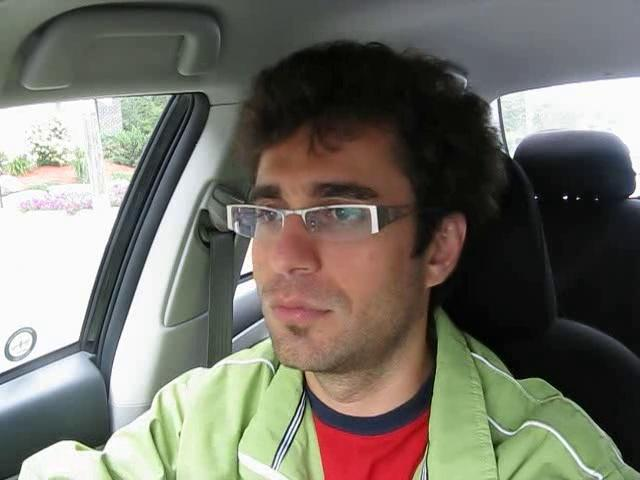no_yawn: (249, 288, 351, 339)
open_eyeL: (241, 195, 291, 233)
open_eyeR: (313, 194, 386, 243)
